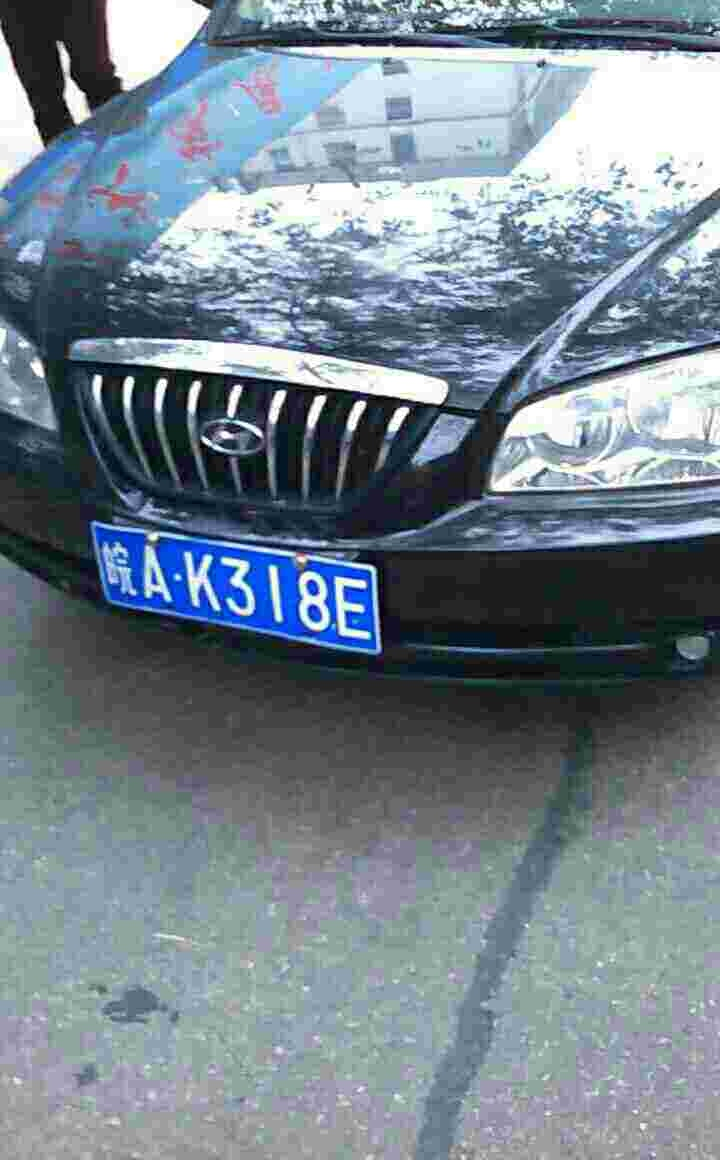license_plate: (96, 519, 380, 657)
